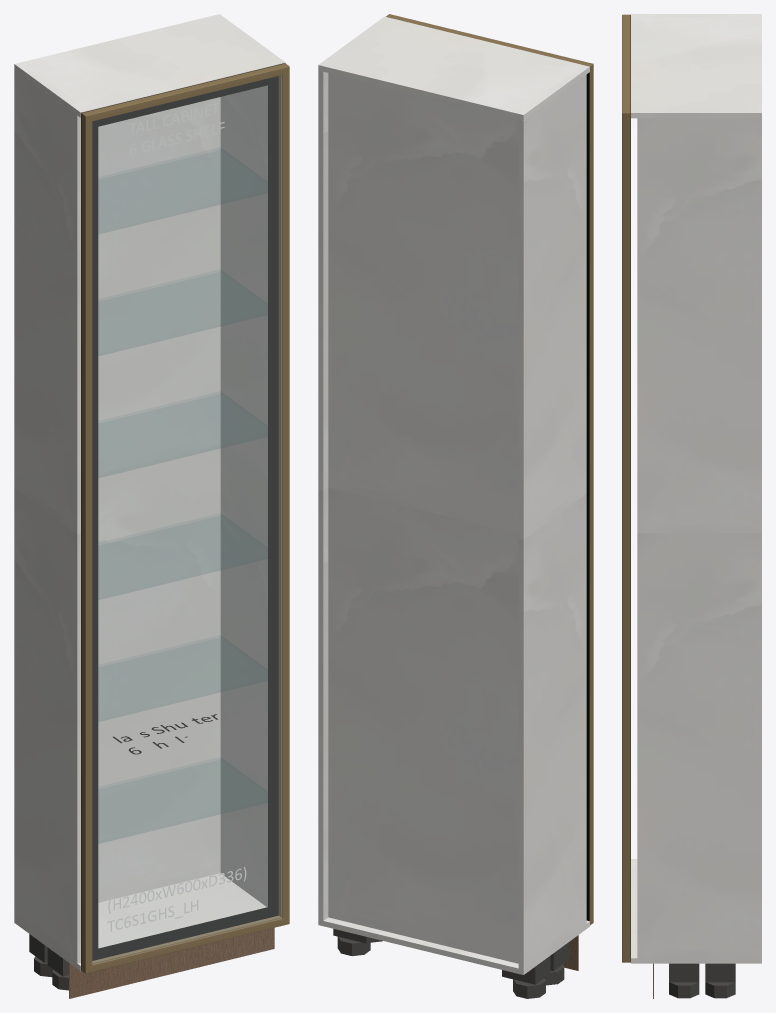
File: TCL-SH-STD-GL-6SG-LHS-XXX-600-2400-336-15.glb
3 renders of one model, left to right at view 1: azimuth 30°, elevation 25°; view 2: azimuth 150°, elevation 25°; view 3: azimuth 270°, elevation 25°, orthographic.
Visible parts, largest first — view 1: Object_node_29, TP_node_2, TP_node_0, TP_node_1, Neon 22 Profile ALU PROF NEON 20 L21XH22.5MM 3MTR S2/405 SEC (×4), Object_node_31, TP, TP_node, Object_node_33, 2D text_node_0, 2D text_node; view 2: TP_node_2, TP_node_0, TP, TP_node_1, Neon 22 Profile ALU PROF NEON 20 L21XH22.5MM 3MTR S2/405 SEC (×2), Object_node_31, TP_node; view 3: TP_node_1, TP, Neon 22 Profile ALU PROF NEON 20 L21XH22.5MM 3MTR S2/405 SEC (×2), TP_node, Object_node_31, Plate_node, Plate_node_1, Foot_node, Foot_node_1.
Part boxes in pixels (x1,y1,x2,y2): Object_node_29: (92,75,282,964); TP_node_2: (98,97,220,902); TP_node_0: (14,69,80,963); TP_node_1: (220,85,267,907); Neon 22 Profile ALU PROF NEON 20 L21XH22.5MM 3MTR S2/405 SEC (×4): (81,63,289,973); Object_node_31: (81,63,284,970); TP: (14,14,285,117); TP_node: (14,873,266,971); Object_node_33: (69,927,274,998); 2D text_node_0: (107,867,246,931); 2D text_node: (129,102,224,154); TP_node_2: (328,73,518,963); TP_node_0: (518,74,586,969); TP: (318,16,589,120); TP_node_1: (318,70,328,920); Neon 22 Profile ALU PROF NEON 20 L21XH22.5MM 3MTR S2/405 SEC (×2): (386,14,593,925); Object_node_31: (586,72,589,920); TP_node: (318,917,589,974); TP_node_1: (637,118,761,958); TP: (631,14,761,118); Neon 22 Profile ALU PROF NEON 20 L21XH22.5MM 3MTR S2/405 SEC (×2): (622,14,630,962); TP_node: (631,859,761,963); Object_node_31: (630,15,630,962); Plate_node: (705,963,735,982); Plate_node_1: (669,963,699,982); Foot_node: (705,982,735,998); Foot_node_1: (669,982,699,998).
Size of what is drawn, in the model's own units: 0.6 by 2.5 by 0.3581.
Materials: 9 (2 with a texture image).
